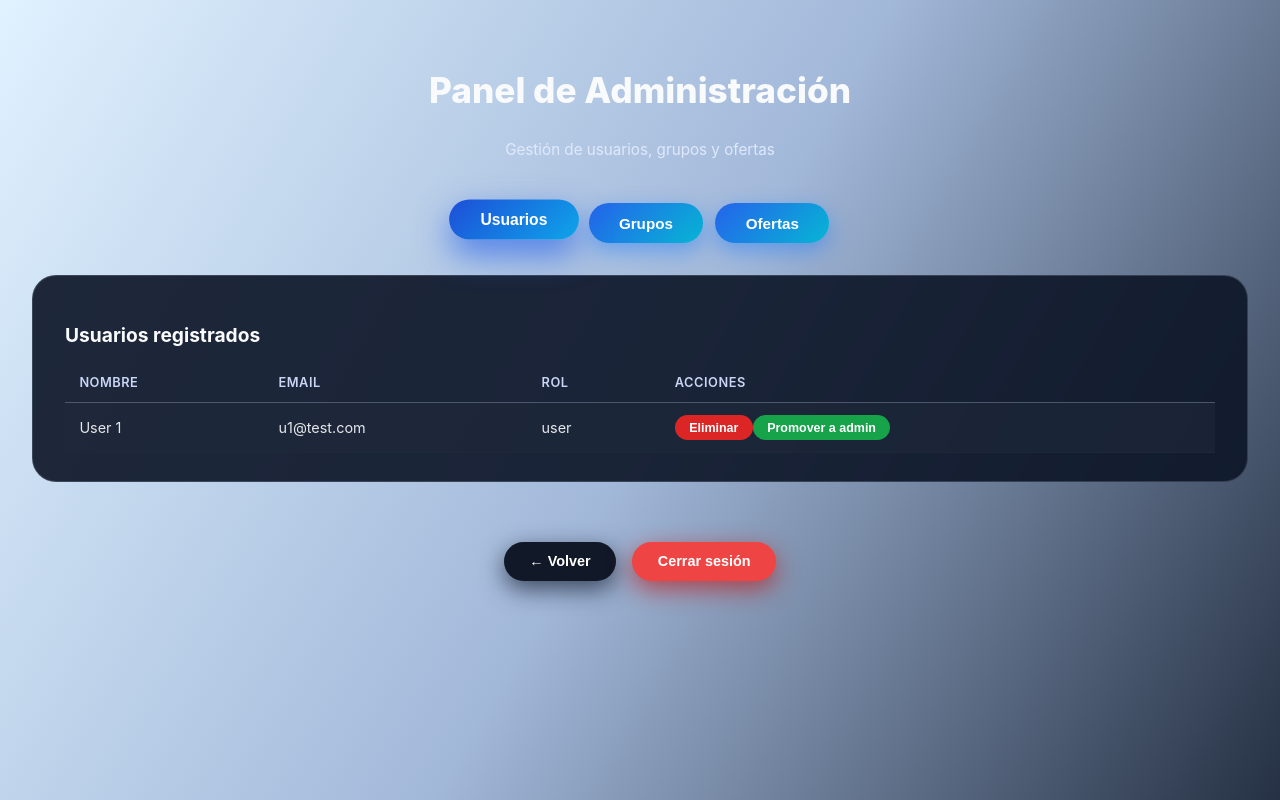
Scenario: AdminView › cambia de sección al hacer click en los botones de navegación
The width and height of the screenshot is (1280, 800).
Click the button "Grupos" at (646, 223), box [588,203,703,243]
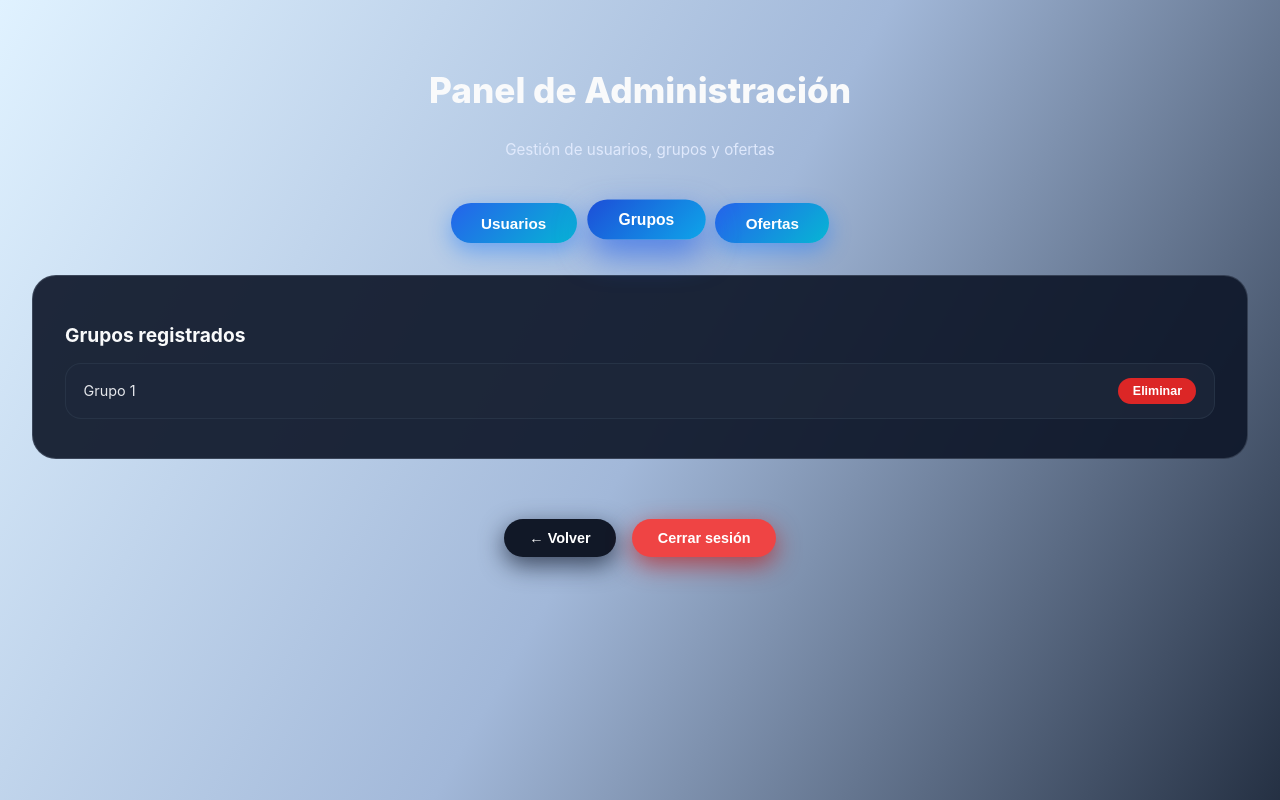
Check: the text "Grupos registrados" is shown, box [65,323,246,347]
Click the button "Ofertas" at (772, 223), box [715,203,829,243]
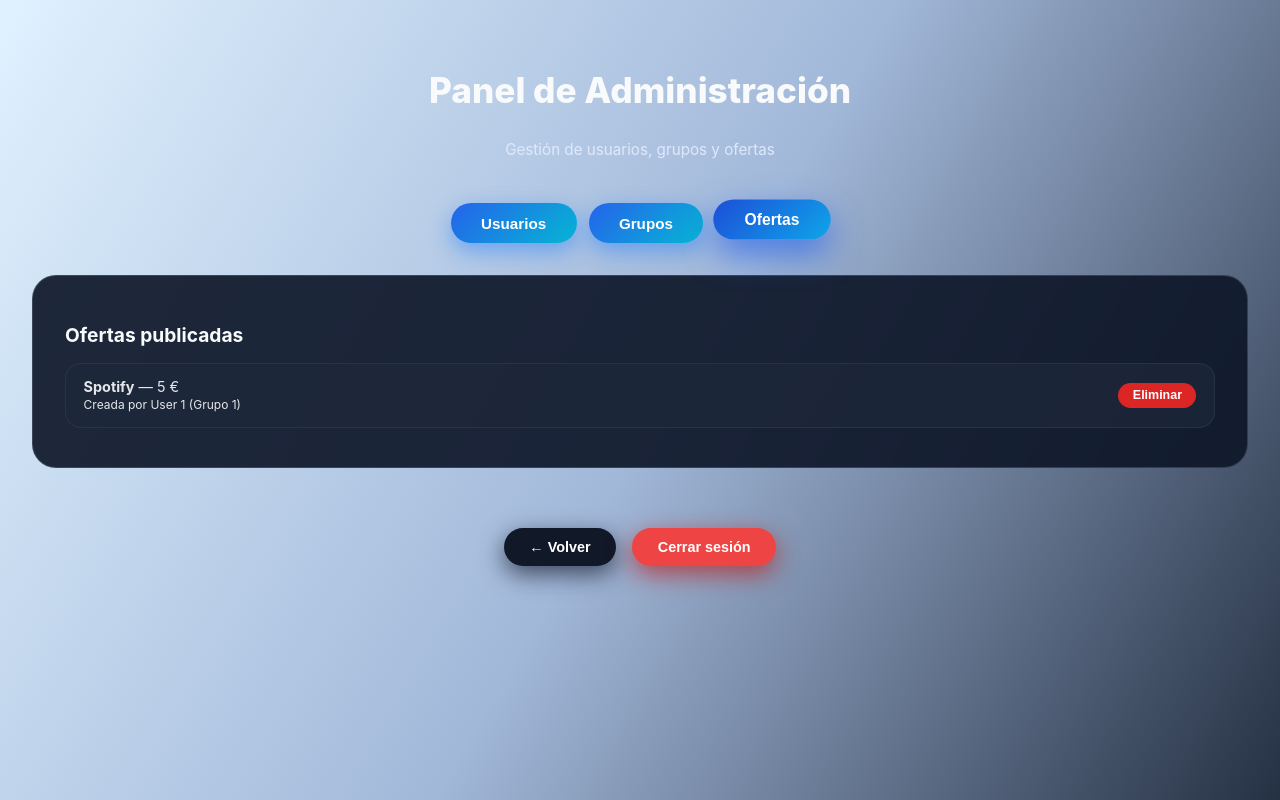
Check: the text "Ofertas publicadas" is shown, box [65,323,243,347]
